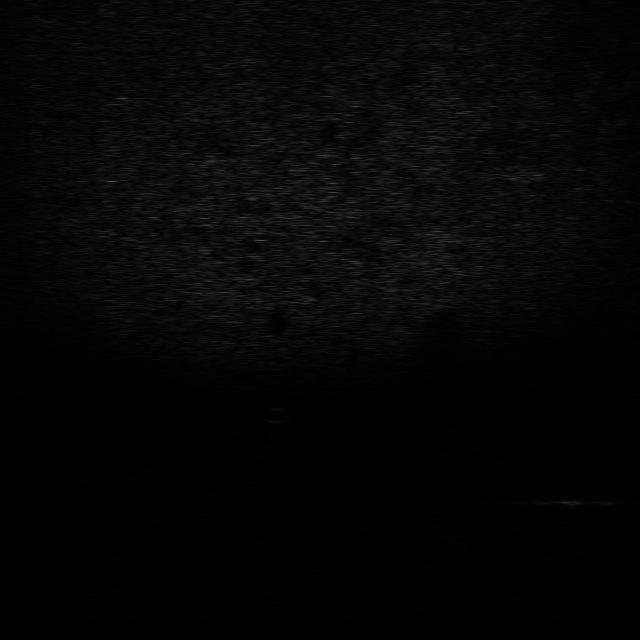ball: (260, 406, 292, 426)
metal bucket: (518, 490, 618, 510)
tyre: (420, 509, 476, 555)
